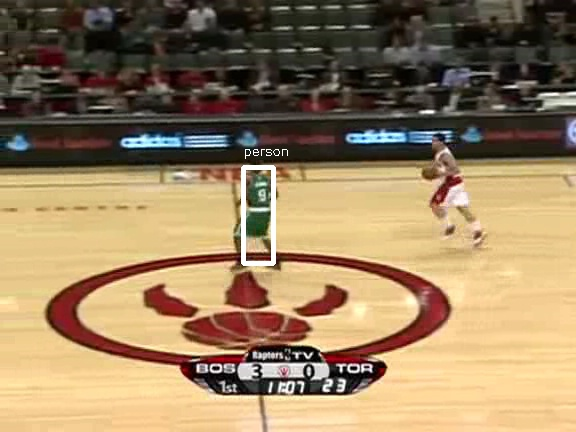person: (244, 167, 278, 248), (243, 167, 277, 248), (245, 167, 279, 248), (244, 166, 278, 247), (244, 168, 278, 249)
target_negative: (131, 178, 502, 409), (39, 133, 146, 405), (404, 134, 449, 362), (38, 180, 227, 230), (255, 342, 482, 358), (266, 383, 392, 405)
